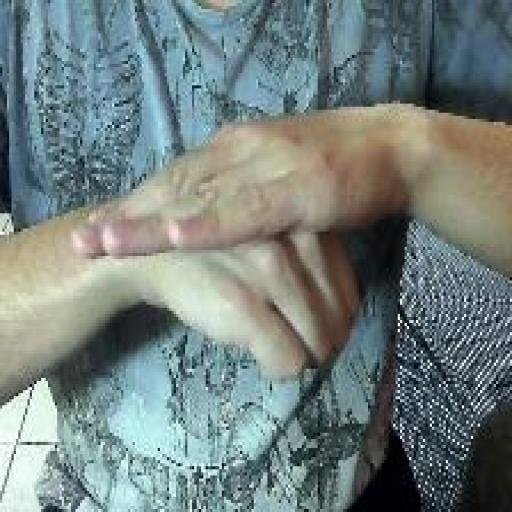Inu -dog-: (66, 111, 364, 386)
